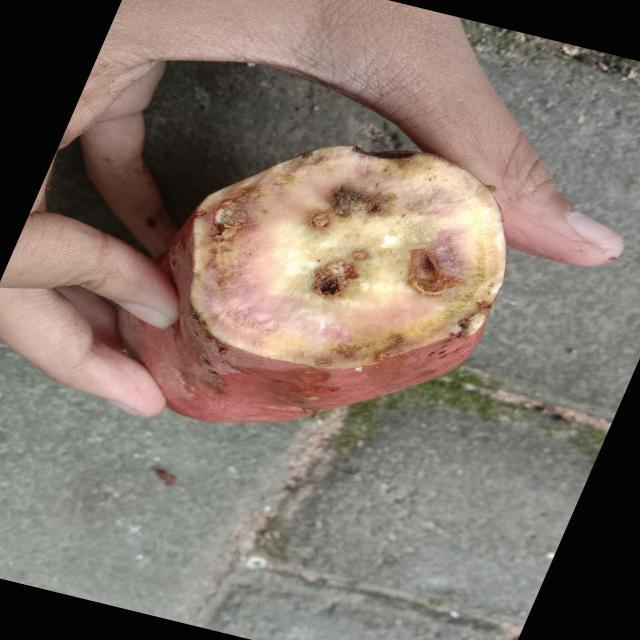Sick Sweet Potato_Tuber Rot: (190, 146, 507, 369)
